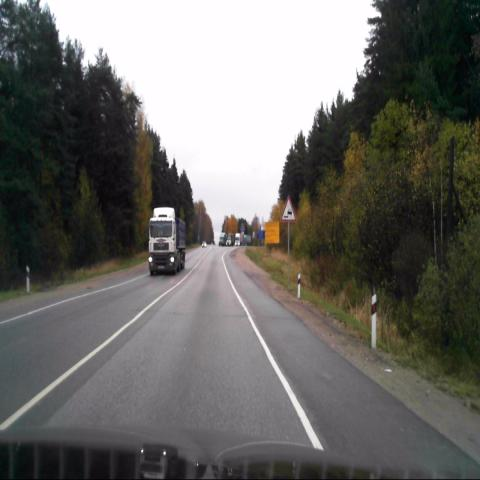1_19: (281, 196, 296, 222)
